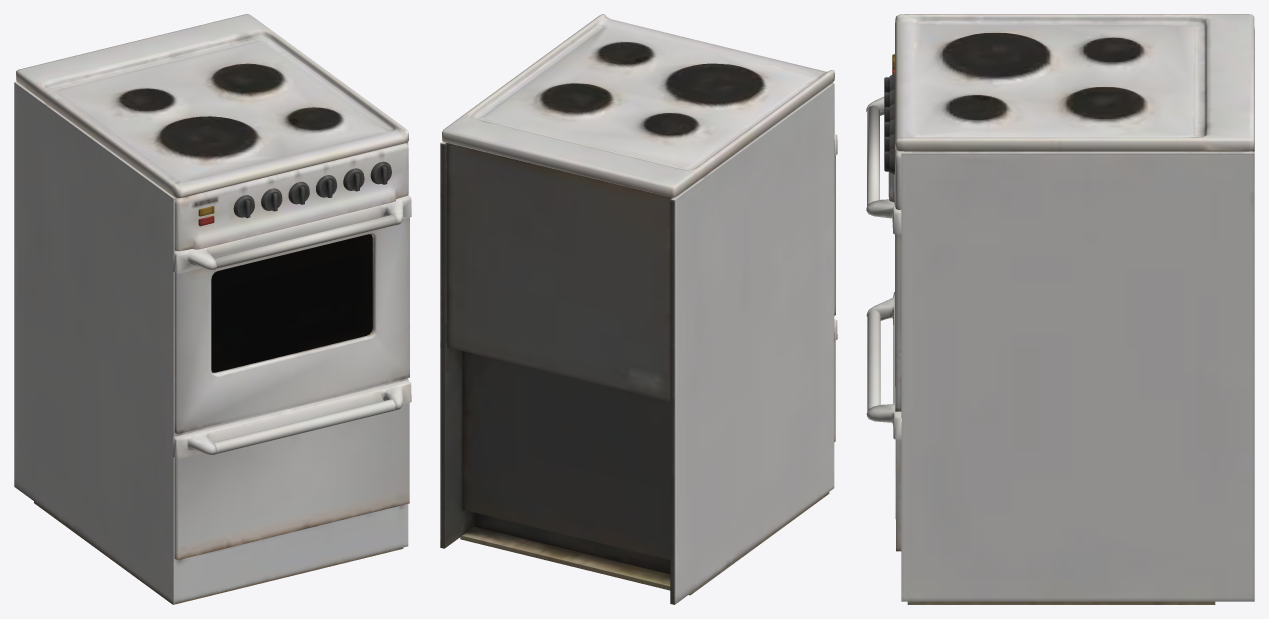
File: electric_stove.f9de9545.glb
3 views of the same model, side by side, from view 1: azimuth 30°, elevation 25°; view 2: azimuth 150°, elevation 25°; view 3: azimuth 270°, elevation 25° (orthographic). The views are drawn at different scales.
Parts seen in each view (by area): view 1: stovetop, door_top, handle_bottom_attachment; view 2: stovetop; view 3: stovetop, handle_bottom_attachment, door_top.
Boxes of the visible parts, <box> form: stovetop: <box>14,14,408,604</box>; door_top: <box>173,195,411,433</box>; handle_bottom_attachment: <box>173,380,411,559</box>; stovetop: <box>440,14,834,604</box>; stovetop: <box>888,14,1254,604</box>; handle_bottom_attachment: <box>866,292,901,551</box>; door_top: <box>866,96,901,411</box>.
Bounding box in the file's own units: 0.5588 × 0.9546 × 0.72.
2 materials, 2 textured.
